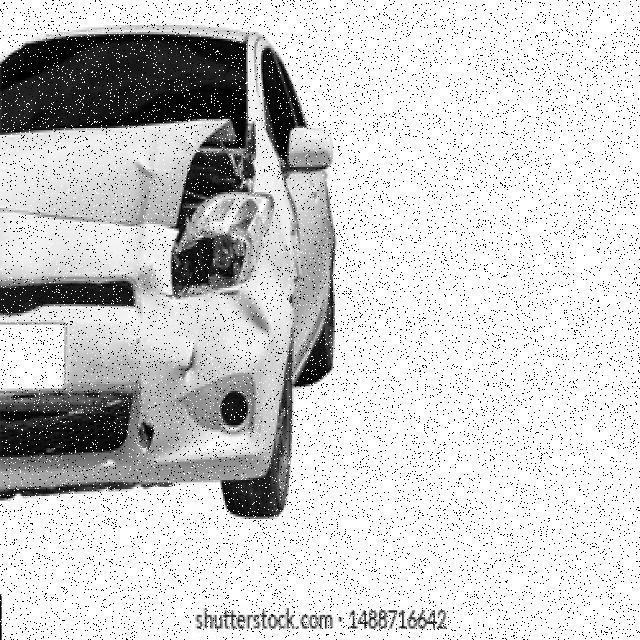Headlight-damage: (158, 142, 264, 290)
bonnet-dent: (2, 122, 220, 295)
front-bumper-dent: (0, 288, 274, 500)
